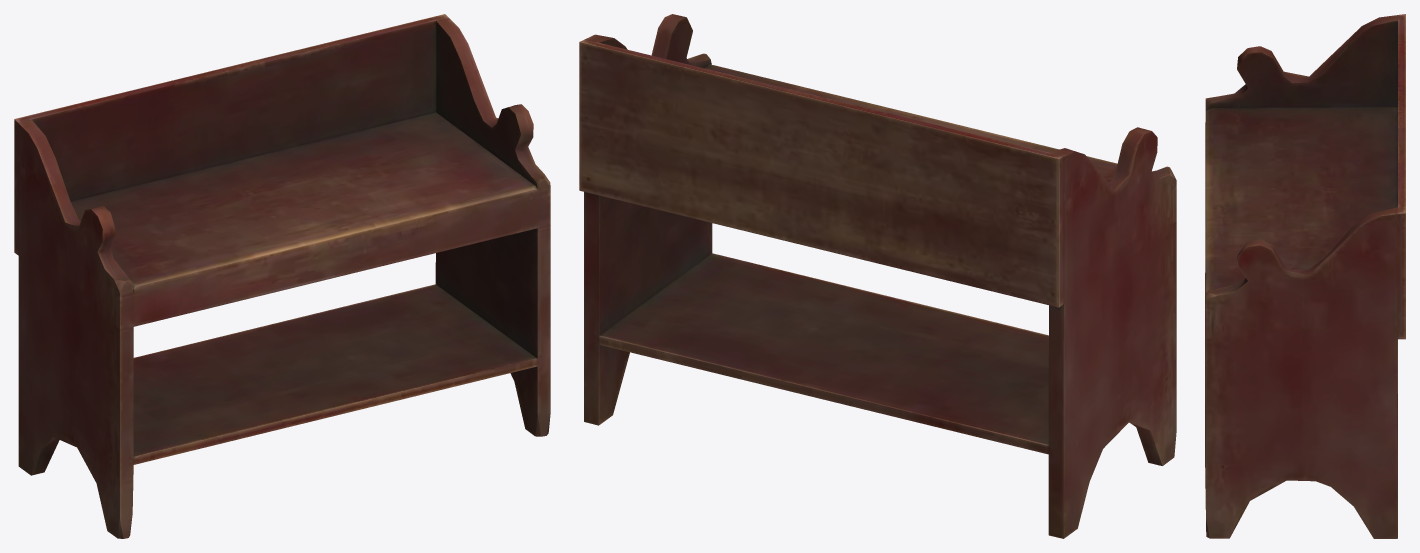
The model's file is painted_wooden_bench.glb.
3 renders of one model, left to right at view 1: azimuth 30°, elevation 25°; view 2: azimuth 150°, elevation 25°; view 3: azimuth 270°, elevation 25°, orthographic. The views are drawn at different scales.
Visible parts, largest first — view 1: painted_wooden_bench; view 2: painted_wooden_bench; view 3: painted_wooden_bench.
Boxes of the visible parts, x1,y1,x2,y2 form: painted_wooden_bench: (14,14,550,538); painted_wooden_bench: (579,14,1176,538); painted_wooden_bench: (1205,14,1405,538).
Size of the model in its own units: 1.16 by 0.8893 by 0.4965.
Materials: 1 (1 with a texture image).
